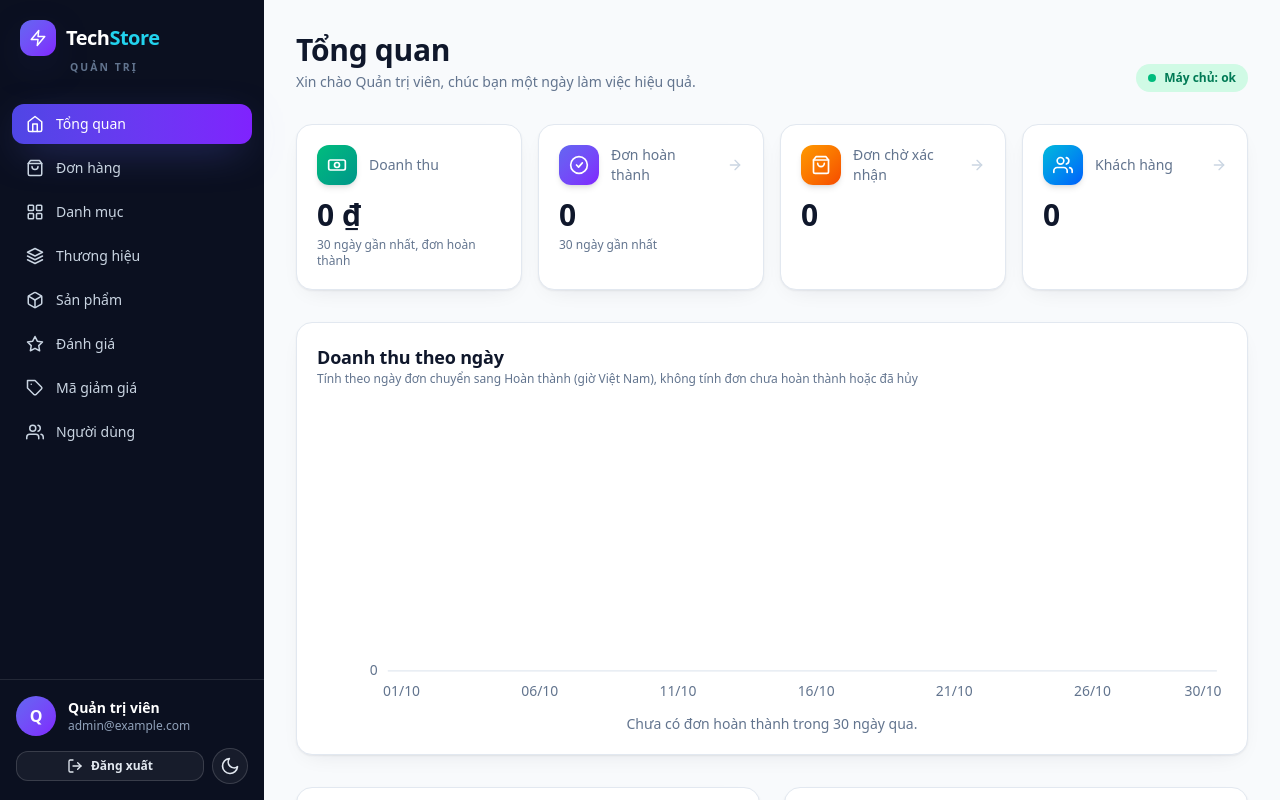
Test: Chế độ sáng/tối ở Admin › thanh bên có nút đổi giao diện: bấm thì đổi data-theme, đổi nhãn và nhớ lựa chọn
This screenshot has width=1280, height=800.
expect the heading "Tổng quan" is shown: met, box [296, 29, 450, 70]
Click the button named "Chuyển sang chế độ tối". click: (230, 766)
box: [212, 748, 248, 784]
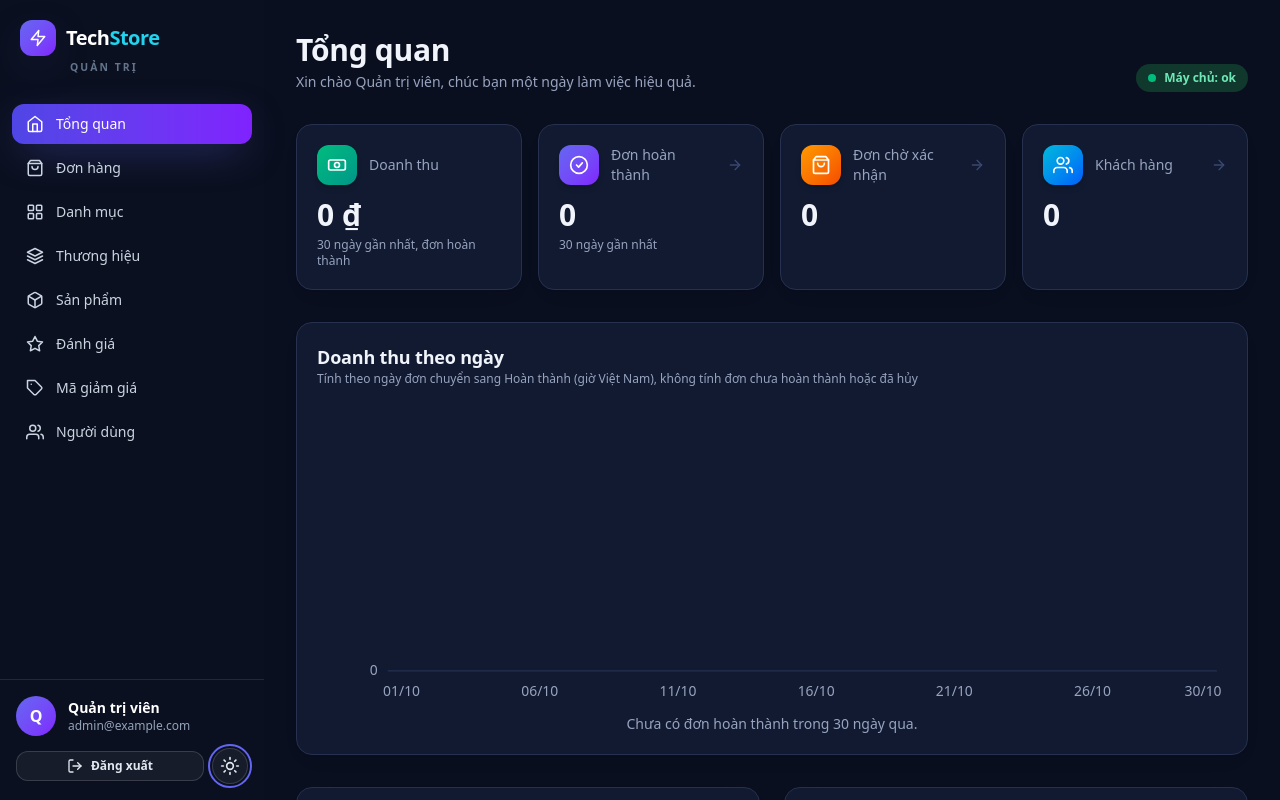
expect the button named "Chuyển sang chế độ sáng" is shown: met, box [212, 748, 248, 784]
